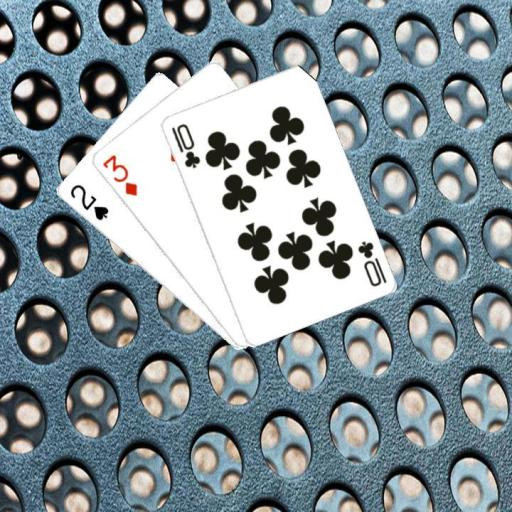10C: (354, 238, 388, 288), (168, 120, 201, 170)
2S: (66, 181, 110, 222)
3D: (99, 151, 139, 198)
